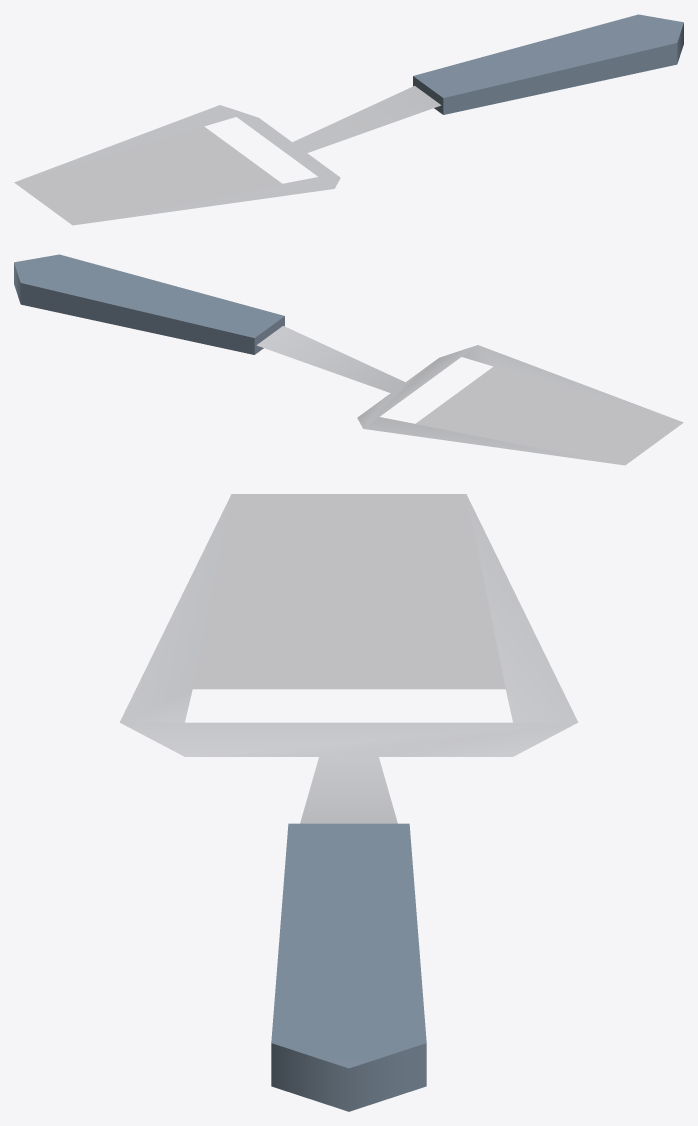
File: cheeseSlicer.obj
3 views of the same model, one above another, from view 1: azimuth 30°, elevation 25°; view 2: azimuth 150°, elevation 25°; view 3: azimuth 270°, elevation 25° (orthographic). The views are drawn at different scales.
Visible parts, largest first — view 1: cheeseSlicer; view 2: cheeseSlicer; view 3: cheeseSlicer.
Part boxes in pixels (x1,y1,x2,y2): cheeseSlicer: [14, 14, 683, 225]; cheeseSlicer: [14, 254, 683, 465]; cheeseSlicer: [119, 494, 578, 1111].
Bounding box in the file's own units: 0.6184 × 0.0292 × 0.1918.
